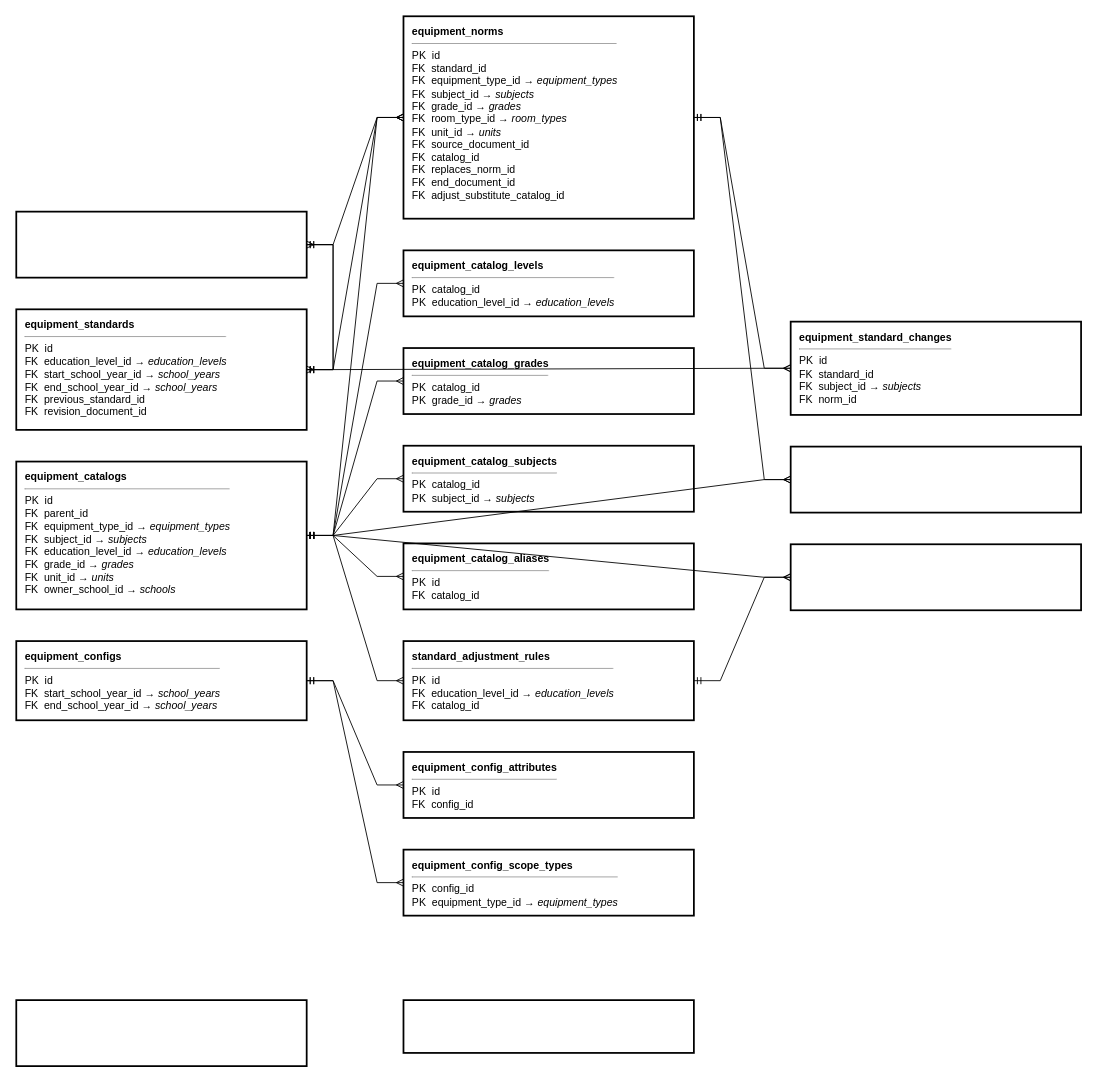
The diagram is 1096 pixels wide and 1082 high, and some of its shapes have lost their labels. Here are the shapes that lost their labels. From the top down, the box of each, then its label:
(15, 210, 307, 278): equipment_standard_documents PK id FK standard_id
(789, 445, 1082, 513): equipment_norm_adjust_shared PK norm_id PK catalog_id
(789, 543, 1082, 611): standard_adjustment_rule_substitutes PK rule_id PK catalog_id
(15, 999, 307, 1067): facility_standard_rules PK id FK room_type_id → room_types
(402, 999, 694, 1053): code_rules PK id
